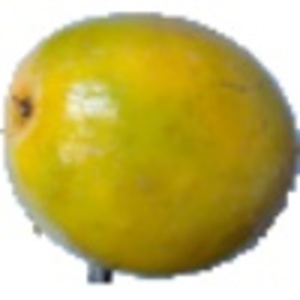maracujá: (1, 12, 300, 286)
